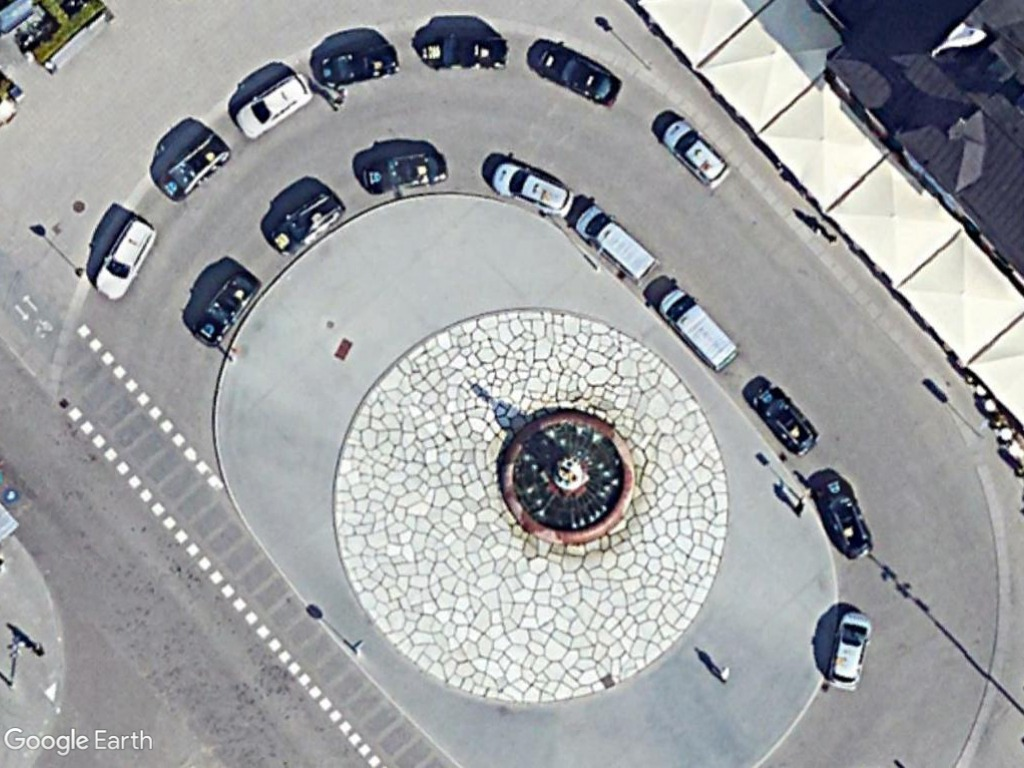car: (532, 43, 626, 113), (232, 66, 316, 144), (190, 268, 264, 350), (267, 187, 348, 261), (93, 213, 159, 303), (155, 129, 233, 204), (490, 159, 579, 222), (749, 383, 821, 459), (660, 115, 732, 191), (817, 473, 876, 564), (360, 148, 451, 197), (318, 40, 402, 91), (417, 30, 511, 75), (826, 611, 876, 693)
van: (655, 286, 741, 375), (573, 203, 660, 286)
